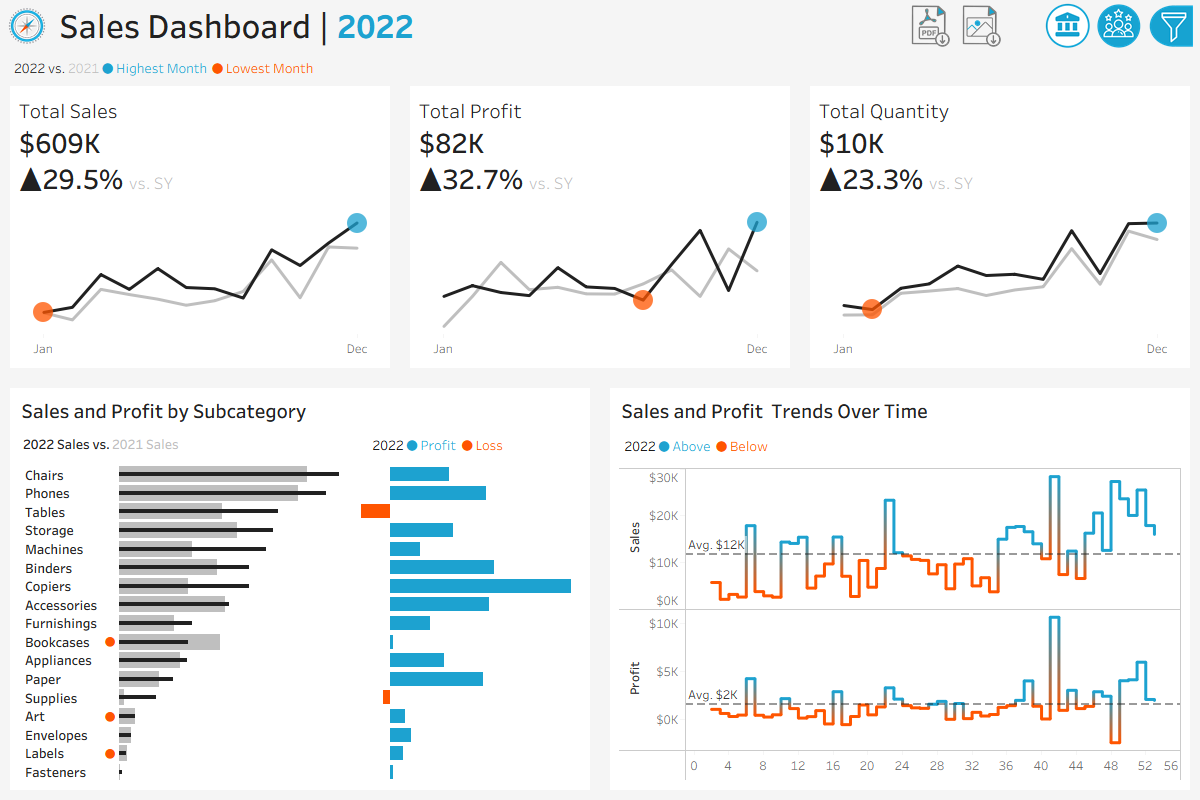

What the dashboard file says about the page in this screenshot:
{"tool":"tableau","page":{"name":"Sales Dashboard","canvas":[1200,800],"ordinal":1},"visuals":[{"type":"image","param":"Image/Icon - Logo.png","box":[0,0,52.7,51]},{"type":"text","box":[52.7,0,850,51]},{"type":"dashboard-object","box":[902.7,0,51,51]},{"type":"dashboard-object","box":[953.7,0,51,51]},{"type":"blank","box":[1007.3,0,35,51]},{"type":"dashboard-object","box":[1042.3,0,51,51]},{"type":"dashboard-object","box":[1093.3,0,52,51]},{"type":"dashboard-object","box":[1145.3,0,52,51]},{"type":"worksheet","title":"Legend KPI","mark":"Automatic","box":[0,51,1200,35]},{"type":"worksheet","title":"KPI Sales","mark":"Line","rows":["Calculation_0336792951341065"],"cols":["Order Date"],"box":[0,86,400,292]},{"type":"worksheet","title":"KPI Profit","mark":"Line","rows":["Min/Max Sales (copy)_0179837687046158"],"cols":["Order Date"],"box":[400,86,400,292]},{"type":"worksheet","title":"KPI Quantity","mark":"Line","rows":["Min/Max Profit (copy)_0179837689978900"],"cols":["Order Date"],"box":[800,86,400,292]},{"type":"parameter","param":"[Parameters].[Parameter 1]","box":[939,87,242,60]},{"type":"parameter","param":"[Parameters].[Choose Primary Year (copy)_0336792909492229]","box":[939,147,242,60]},{"type":"text","box":[939,207,242,50]},{"type":"filter","title":"KPI Sales","param":"[federated.0j6tzli15aromr19julgg1s33fei].[none:Category:nk]","box":[939,257,242,110]},{"type":"filter","title":"Subcategory Comparison","param":"[federated.0j6tzli15aromr19julgg1s33fei].[none:Sub-Category:nk]","box":[939,367,242,60]},{"type":"text","box":[15,393,570,35]},{"type":"text","box":[615,393,570,35]},{"type":"text","box":[939,427,242,50]},{"type":"worksheet","title":"Legend Subcategory Comparison","mark":"Automatic","box":[15,428,348,33]},{"type":"text","box":[363,428,222,33]},{"type":"text","box":[615,428,570,36]},{"type":"worksheet","title":"Subcategory Comparison","mark":"Bar","rows":["Sub-Category","Calculation_0179837695053849"],"cols":["PY Sales (copy)_0336792909484036","Calculation_0336792907505666","PY Sales (copy)_0179837686874123"],"box":[15,461,570,324]},{"type":"worksheet","title":"Weekly Trends","mark":"Line","rows":["Calculation_0336792907505666","PY Sales (copy)_0179837686874123"],"cols":["Order Date"],"box":[615,464,570,321]},{"type":"filter","title":"KPI Sales","param":"[federated.0j6tzli15aromr19julgg1s33fei].[none:Region:nk]","box":[939,477,242,130]},{"type":"filter","title":"KPI Sales","param":"[federated.0j6tzli15aromr19julgg1s33fei].[none:State:nk]","box":[939,607,242,60]},{"type":"filter","title":"KPI Sales","param":"[federated.0j6tzli15aromr19julgg1s33fei].[none:City:nk]","box":[939,667,242,60]}]}

Visuals, with their boxes in screenshot pixels (x1, y1, x2, y2), scaled from the page's 1200x800 canvas onto the 1200x800 screenshot:
image: x1=0, y1=0, x2=53, y2=51
text: x1=53, y1=0, x2=903, y2=51
dashboard-object: x1=903, y1=0, x2=954, y2=51
dashboard-object: x1=954, y1=0, x2=1005, y2=51
blank: x1=1007, y1=0, x2=1042, y2=51
dashboard-object: x1=1042, y1=0, x2=1093, y2=51
dashboard-object: x1=1093, y1=0, x2=1145, y2=51
dashboard-object: x1=1145, y1=0, x2=1197, y2=51
"Legend KPI" worksheet: x1=0, y1=51, x2=1199, y2=86
"KPI Sales" worksheet (Line marks): x1=0, y1=86, x2=400, y2=378
"KPI Profit" worksheet (Line marks): x1=400, y1=86, x2=800, y2=378
"KPI Quantity" worksheet (Line marks): x1=800, y1=86, x2=1199, y2=378
parameter: x1=939, y1=87, x2=1181, y2=147
parameter: x1=939, y1=147, x2=1181, y2=207
text: x1=939, y1=207, x2=1181, y2=257
"KPI Sales" filter: x1=939, y1=257, x2=1181, y2=367
"Subcategory Comparison" filter: x1=939, y1=367, x2=1181, y2=427
text: x1=15, y1=393, x2=585, y2=428
text: x1=615, y1=393, x2=1185, y2=428
text: x1=939, y1=427, x2=1181, y2=477
"Legend Subcategory Comparison" worksheet: x1=15, y1=428, x2=363, y2=461
text: x1=363, y1=428, x2=585, y2=461
text: x1=615, y1=428, x2=1185, y2=464
"Subcategory Comparison" worksheet (Bar marks): x1=15, y1=461, x2=585, y2=785
"Weekly Trends" worksheet (Line marks): x1=615, y1=464, x2=1185, y2=785
"KPI Sales" filter: x1=939, y1=477, x2=1181, y2=607
"KPI Sales" filter: x1=939, y1=607, x2=1181, y2=667
"KPI Sales" filter: x1=939, y1=667, x2=1181, y2=727
